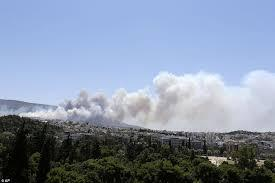yanwu: (18, 68, 274, 122)
